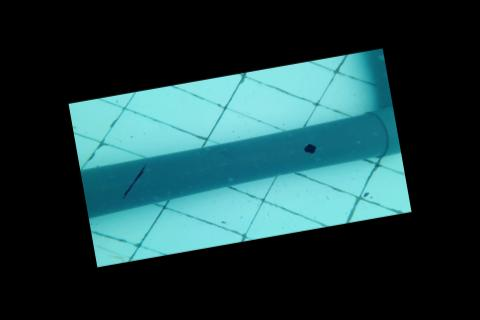kebocoran: (300, 141, 318, 156)
keretakan: (113, 163, 153, 201)
